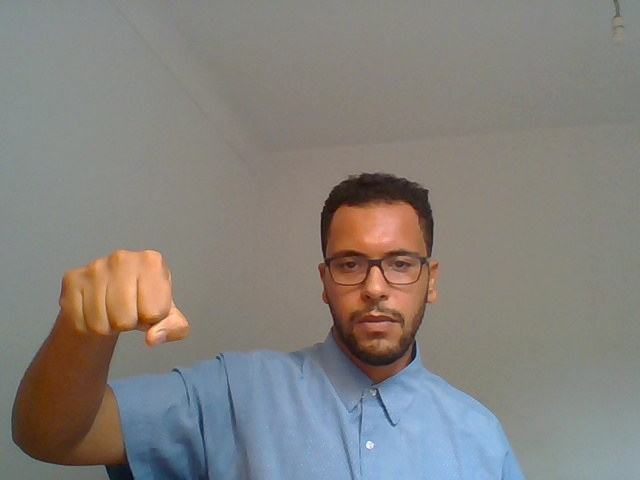yes: (36, 231, 212, 387)
